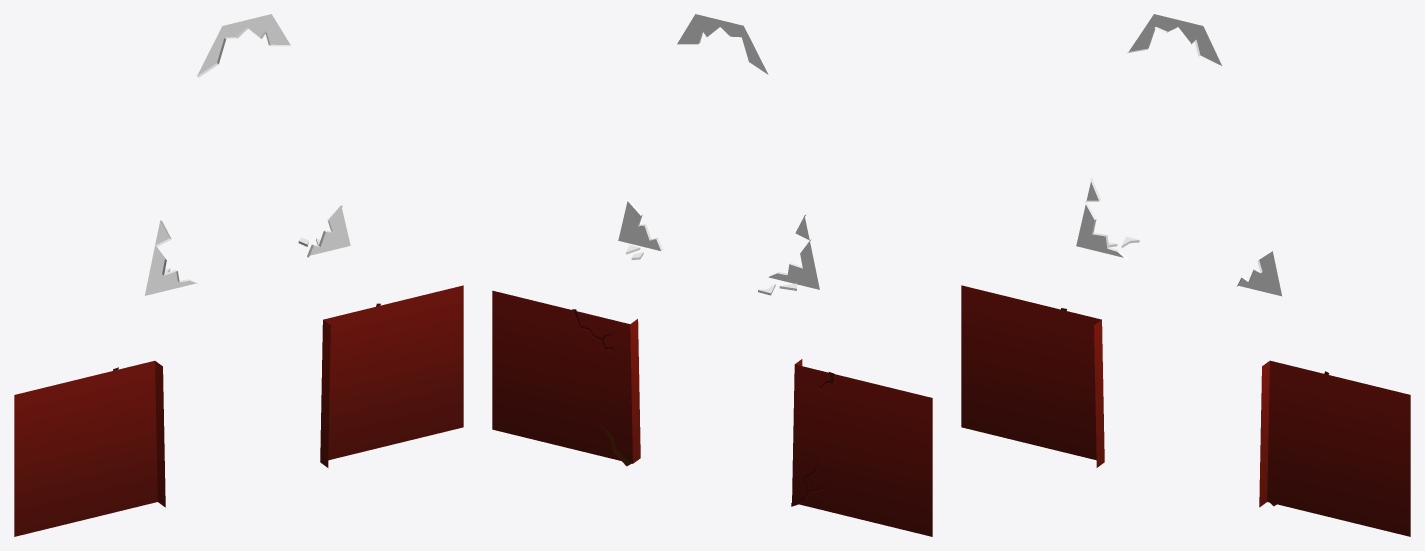
Rendered from 1.100_SanFrancisco_event_02.glb.
3 renders of one model, left to right at view 1: azimuth 30°, elevation 25°; view 2: azimuth 150°, elevation 25°; view 3: azimuth 330°, elevation 25°, orthographic. The views are drawn at different scales.
Parts seen in each view (by area): view 1: 1.100_SanFrancisco_event_02; view 2: 1.100_SanFrancisco_event_02; view 3: 1.100_SanFrancisco_event_02.
Part boxes in pixels (left/top/right/bottom): 1.100_SanFrancisco_event_02: left=14, top=14, right=463, bottom=536; 1.100_SanFrancisco_event_02: left=492, top=14, right=932, bottom=536; 1.100_SanFrancisco_event_02: left=961, top=14, right=1410, bottom=536.
Size of the model in its own units: 187 by 188 by 15.23.
2 materials, 1 textured.
